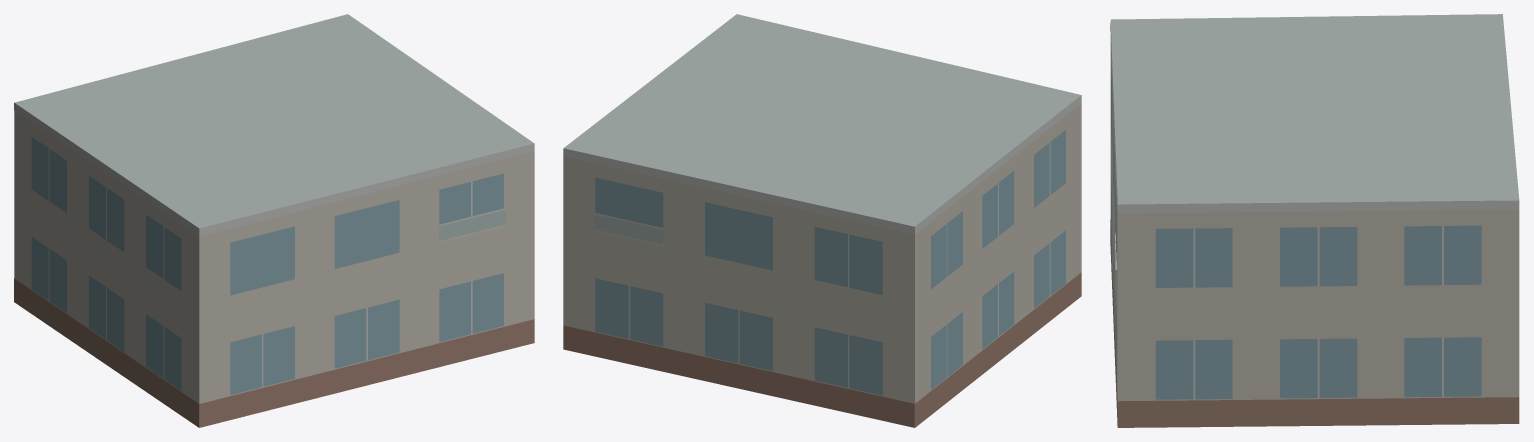
Rendered from survey-upis-32659635.glb.
3 views of the same model, side by side, from view 1: azimuth 30°, elevation 25°; view 2: azimuth 150°, elevation 25°; view 3: azimuth 270°, elevation 25° (orthographic). The views are drawn at different scales.
Visible parts, largest first — view 1: survey-upis-32659635.tmp; view 2: survey-upis-32659635.tmp; view 3: survey-upis-32659635.tmp.
Boxes of the visible parts, left/top/right/bottom form: survey-upis-32659635.tmp: left=14, top=14, right=534, bottom=427; survey-upis-32659635.tmp: left=563, top=14, right=1081, bottom=427; survey-upis-32659635.tmp: left=1110, top=14, right=1519, bottom=427.
Size of the model in its own units: 11.16 by 6.1 by 10.13.
